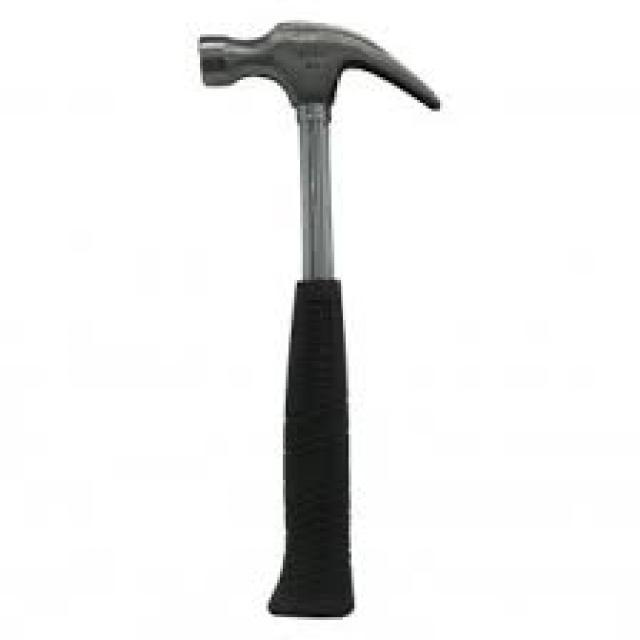hammer: (176, 8, 454, 624)
